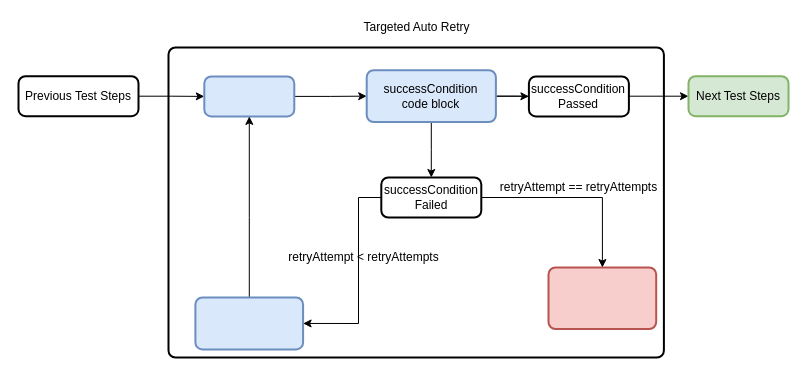
Some shapes in this 806 by 375 pixel diagram are drawn without their labels. The centre of each missing label's shape, as x and y in pixels:
"mainAction code block" goes at [249,96].
"resetSteps (if applicable)" goes at [249,323].
"Test Failed" goes at [602,298].
